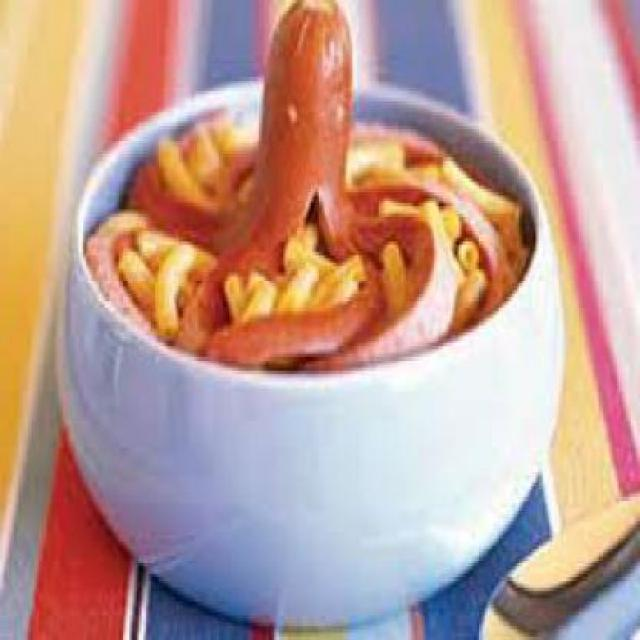macaroni and cheese: (92, 126, 526, 360)
